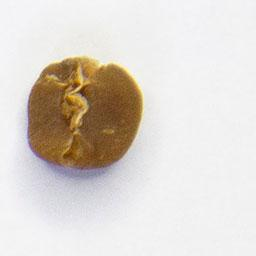defect: (23, 51, 145, 173)
